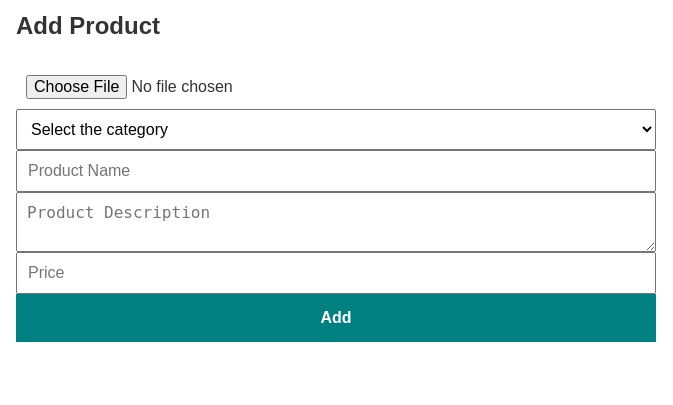
Test: AddProduct Component › debería manejar errores desconocidos correctamente
This screenshot has width=673, height=405.
Expected: the dropdown is shown, [16,109,656,150]
Type "Nuevo Producto" into the field with placeholder "Product Name". click: [336, 171]
box: [16,150,656,192]
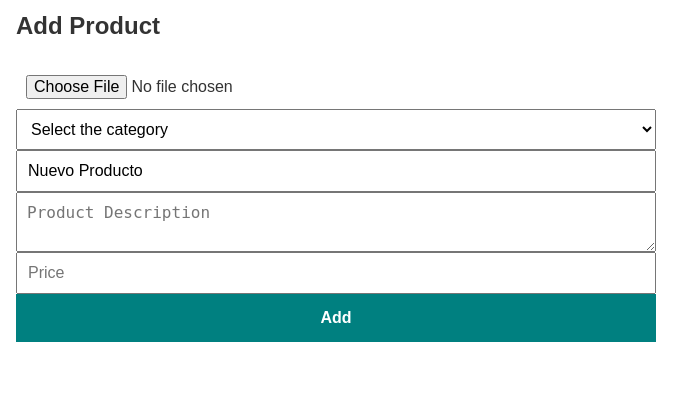
Type "Descripción detallada" into the text box with placeholder "Product Description". click: [336, 222]
box: [16,192,656,252]
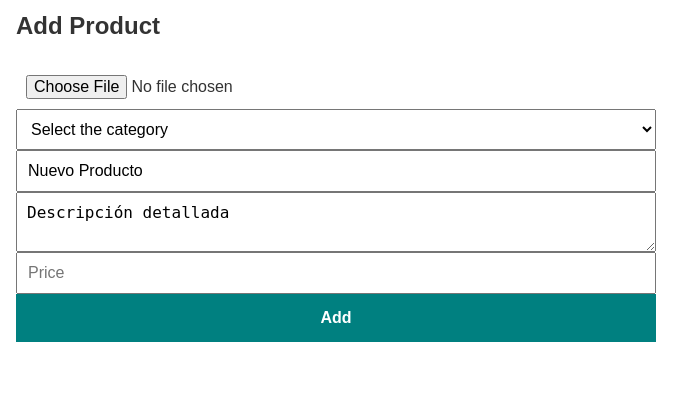
Type "50" into the number field with placeholder "Price". click: [336, 273]
box: [16,252,656,294]
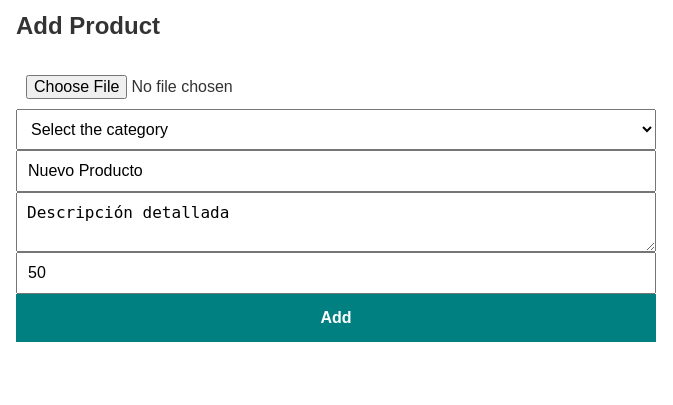
Click the button "Add". click: [336, 318]
box: [16,294,656,342]
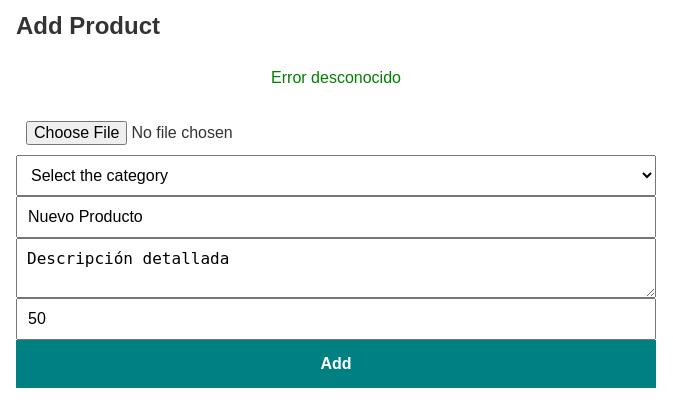
Result: the text "Error desconocido" is shown at [271,69,401,86]
